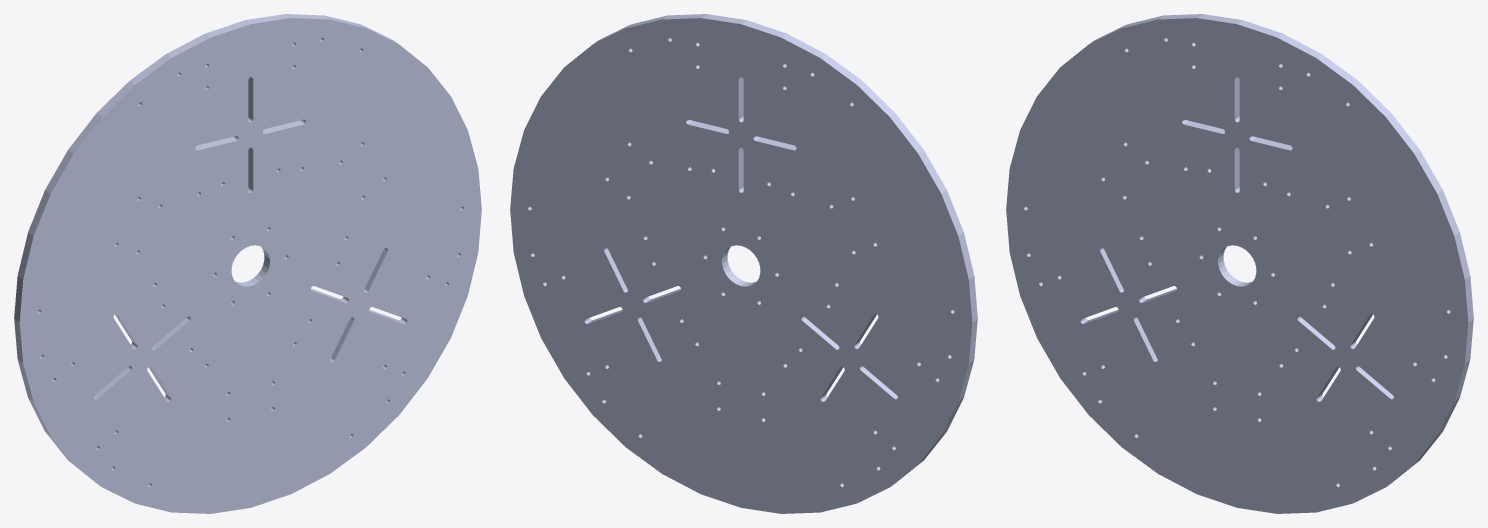
Rendered from omnibase_top.dae.
3 renders of one model, left to right at view 1: azimuth 30°, elevation 25°; view 2: azimuth 150°, elevation 25°; view 3: azimuth 330°, elevation 25°, orthographic.
Parts seen in each view (by area): view 1: node0; view 2: node0; view 3: node0.
Part boxes in pixels (x1=…): node0: x1=14, y1=14, x2=481, y2=513; node0: x1=510, y1=14, x2=977, y2=513; node0: x1=1006, y1=14, x2=1473, y2=513.
Bounding box in the file's own units: 0.24 × 0.005 × 0.24.
